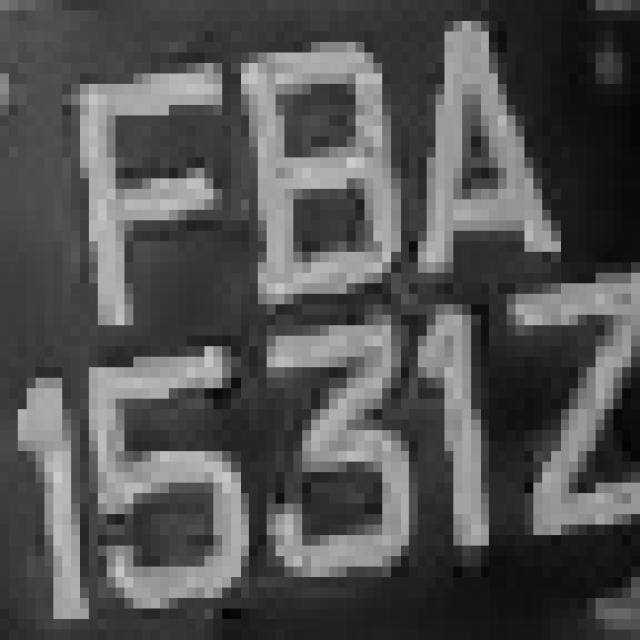1: (0, 325, 107, 640), (391, 262, 489, 577)
3: (240, 304, 409, 609)
5: (89, 346, 249, 619)
A: (400, 21, 560, 294)
B: (213, 42, 409, 325)
F: (53, 21, 231, 357)
Z: (507, 252, 631, 566)
